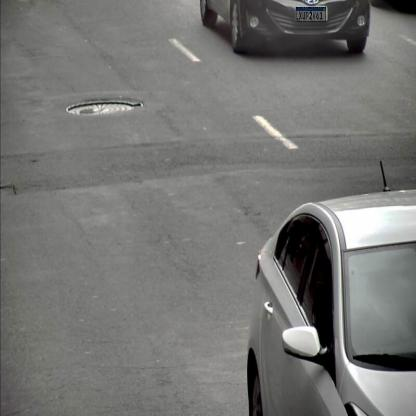PlacaM: (296, 7, 326, 21)
